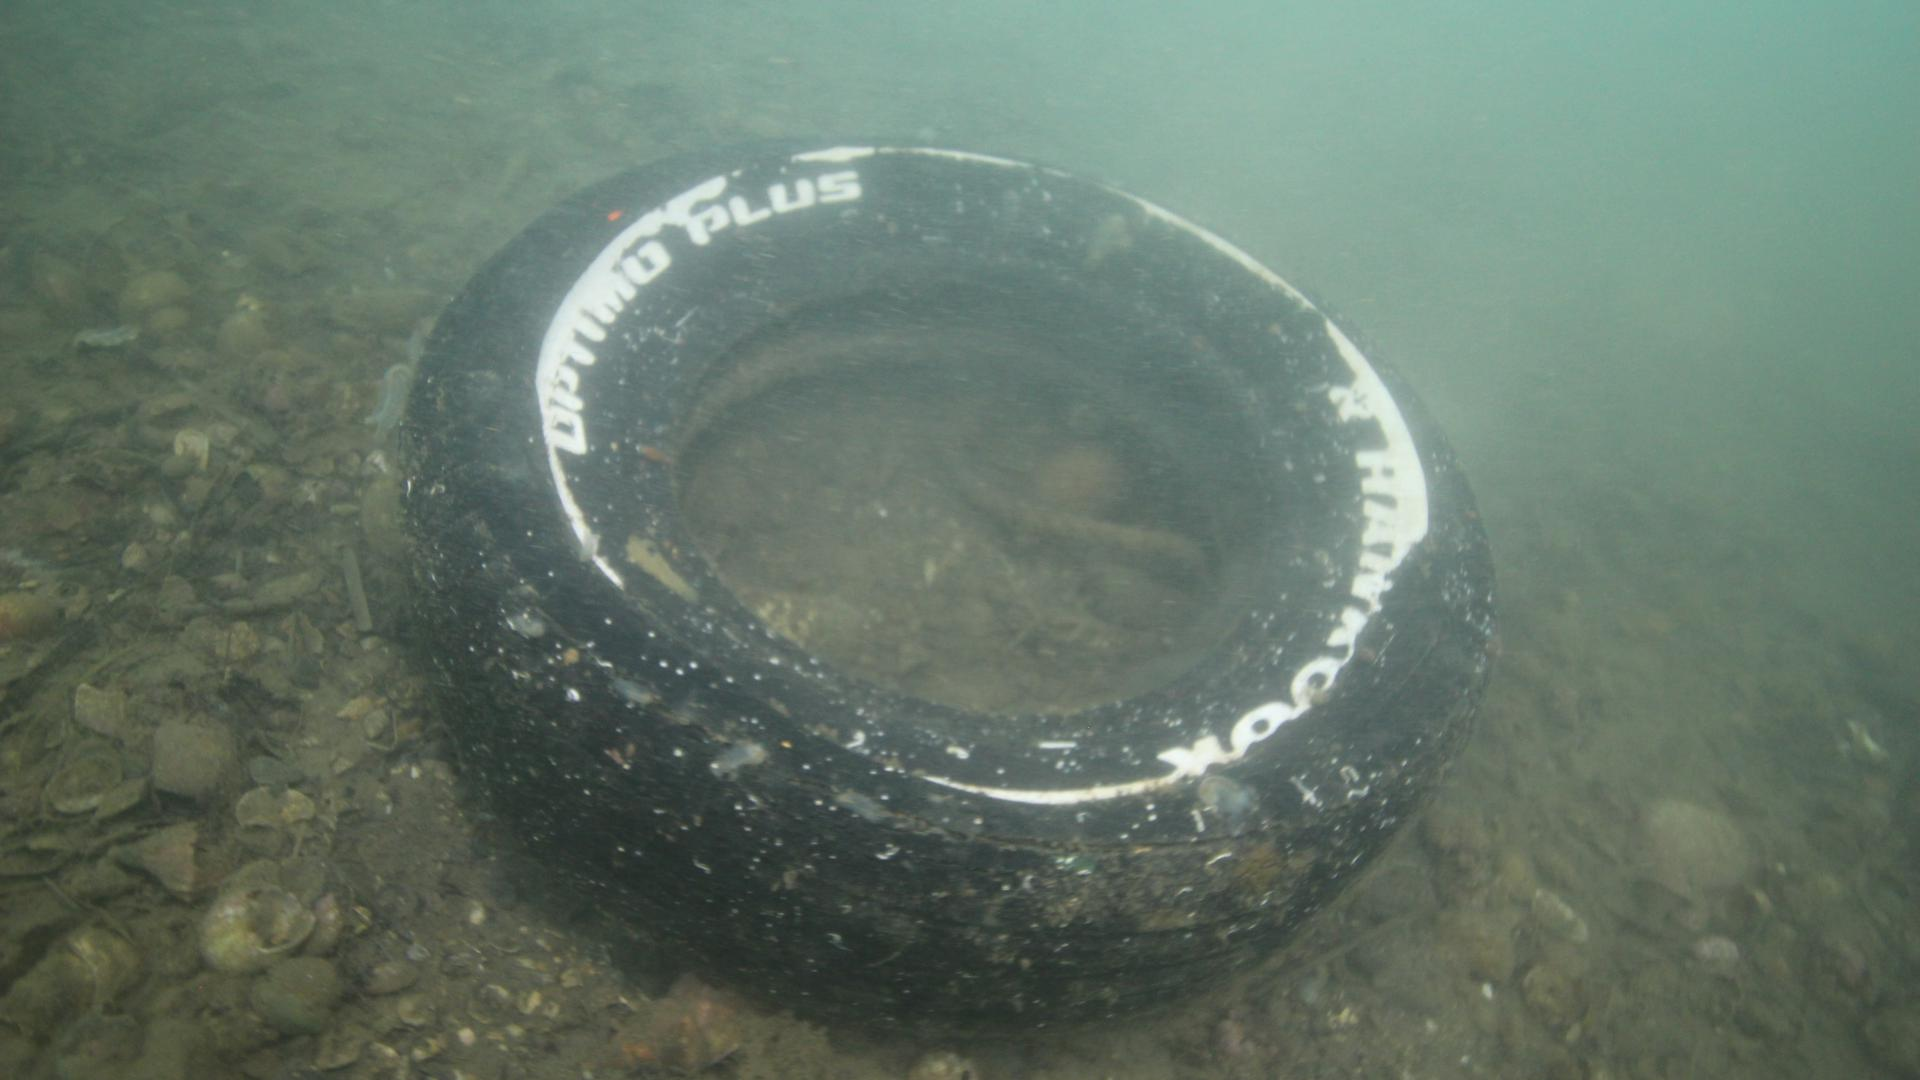tire: (396, 136, 1495, 1047)
